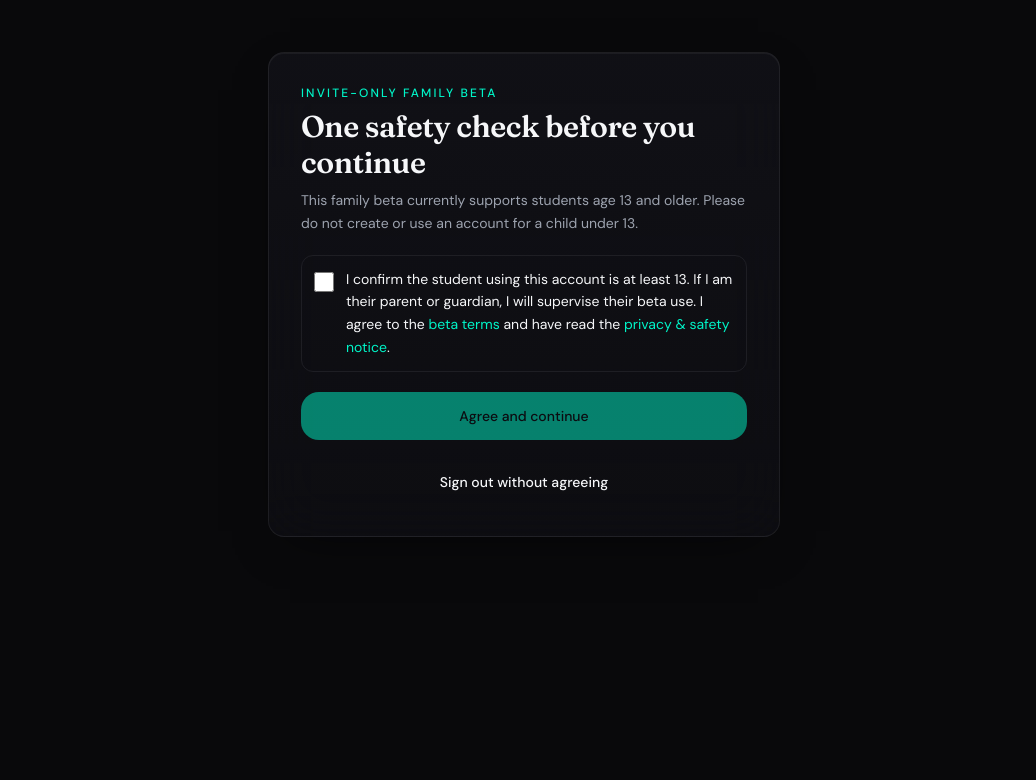
family beta agreement › keeps the account blocked until the safety agreement is saved
This screenshot has width=1036, height=780.
Expected: the button "Agree and continue" is disabled, x1=301 y1=392 x2=747 y2=440
Click the checkbox.
click(324, 282)  # box x1=314 y1=272 x2=334 y2=292
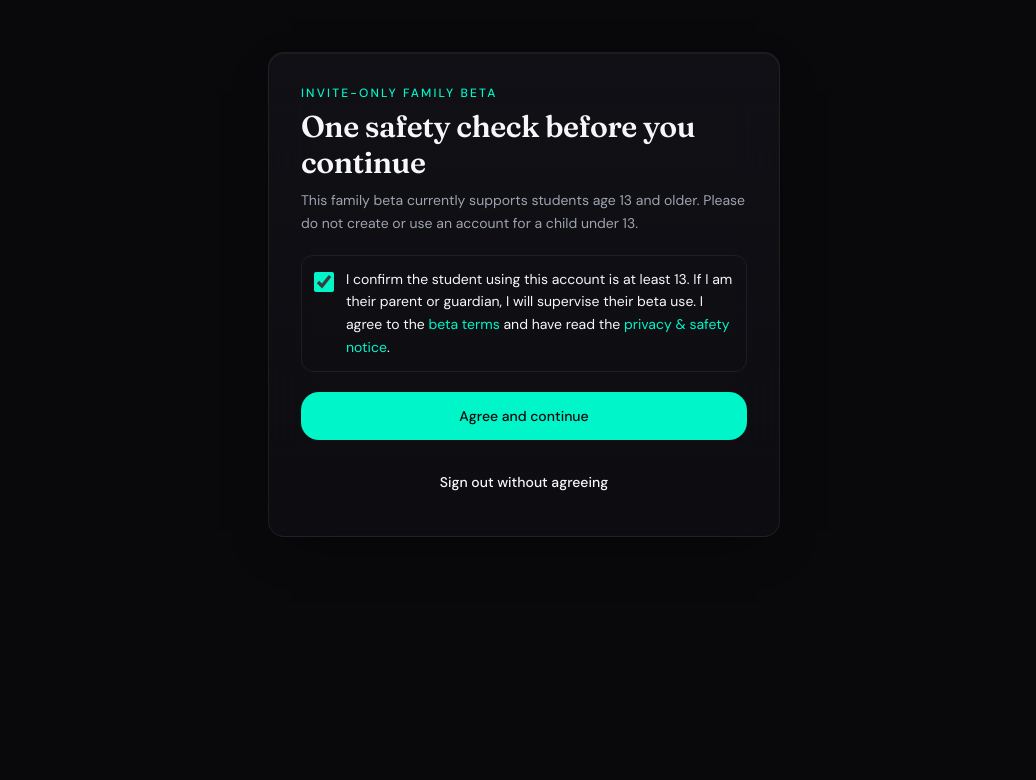
Click the button "Agree and continue".
click(524, 416)  # box x1=301 y1=392 x2=747 y2=440
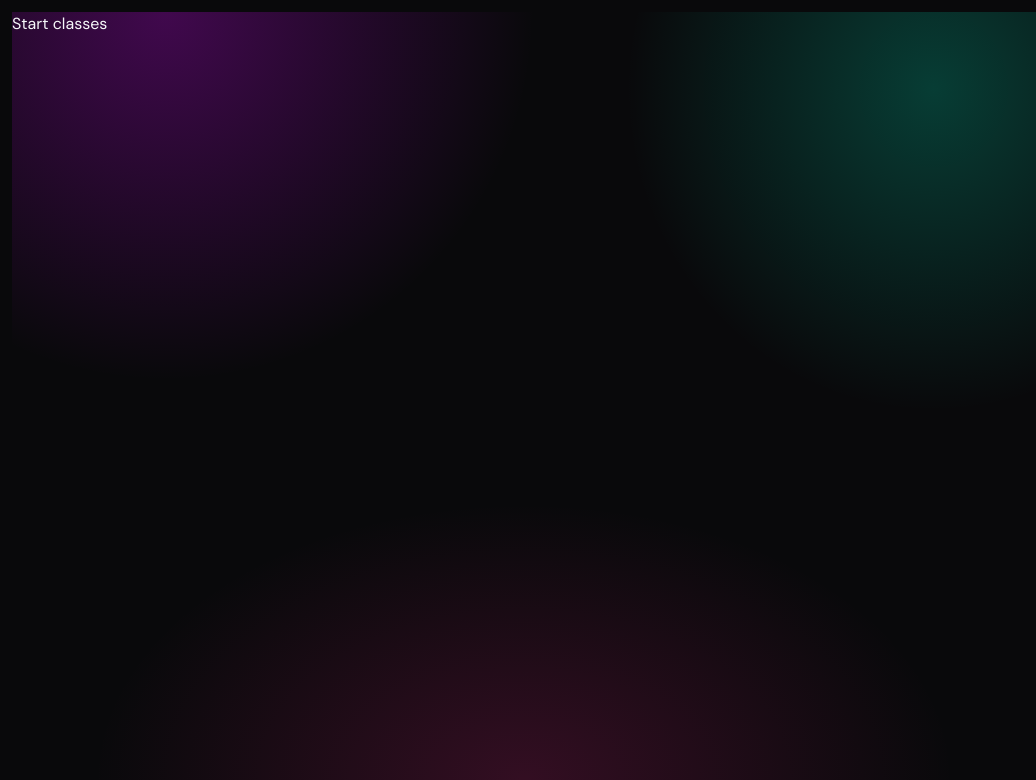
Result: the text "Start classes" is shown at x1=12 y1=13 x2=107 y2=34
